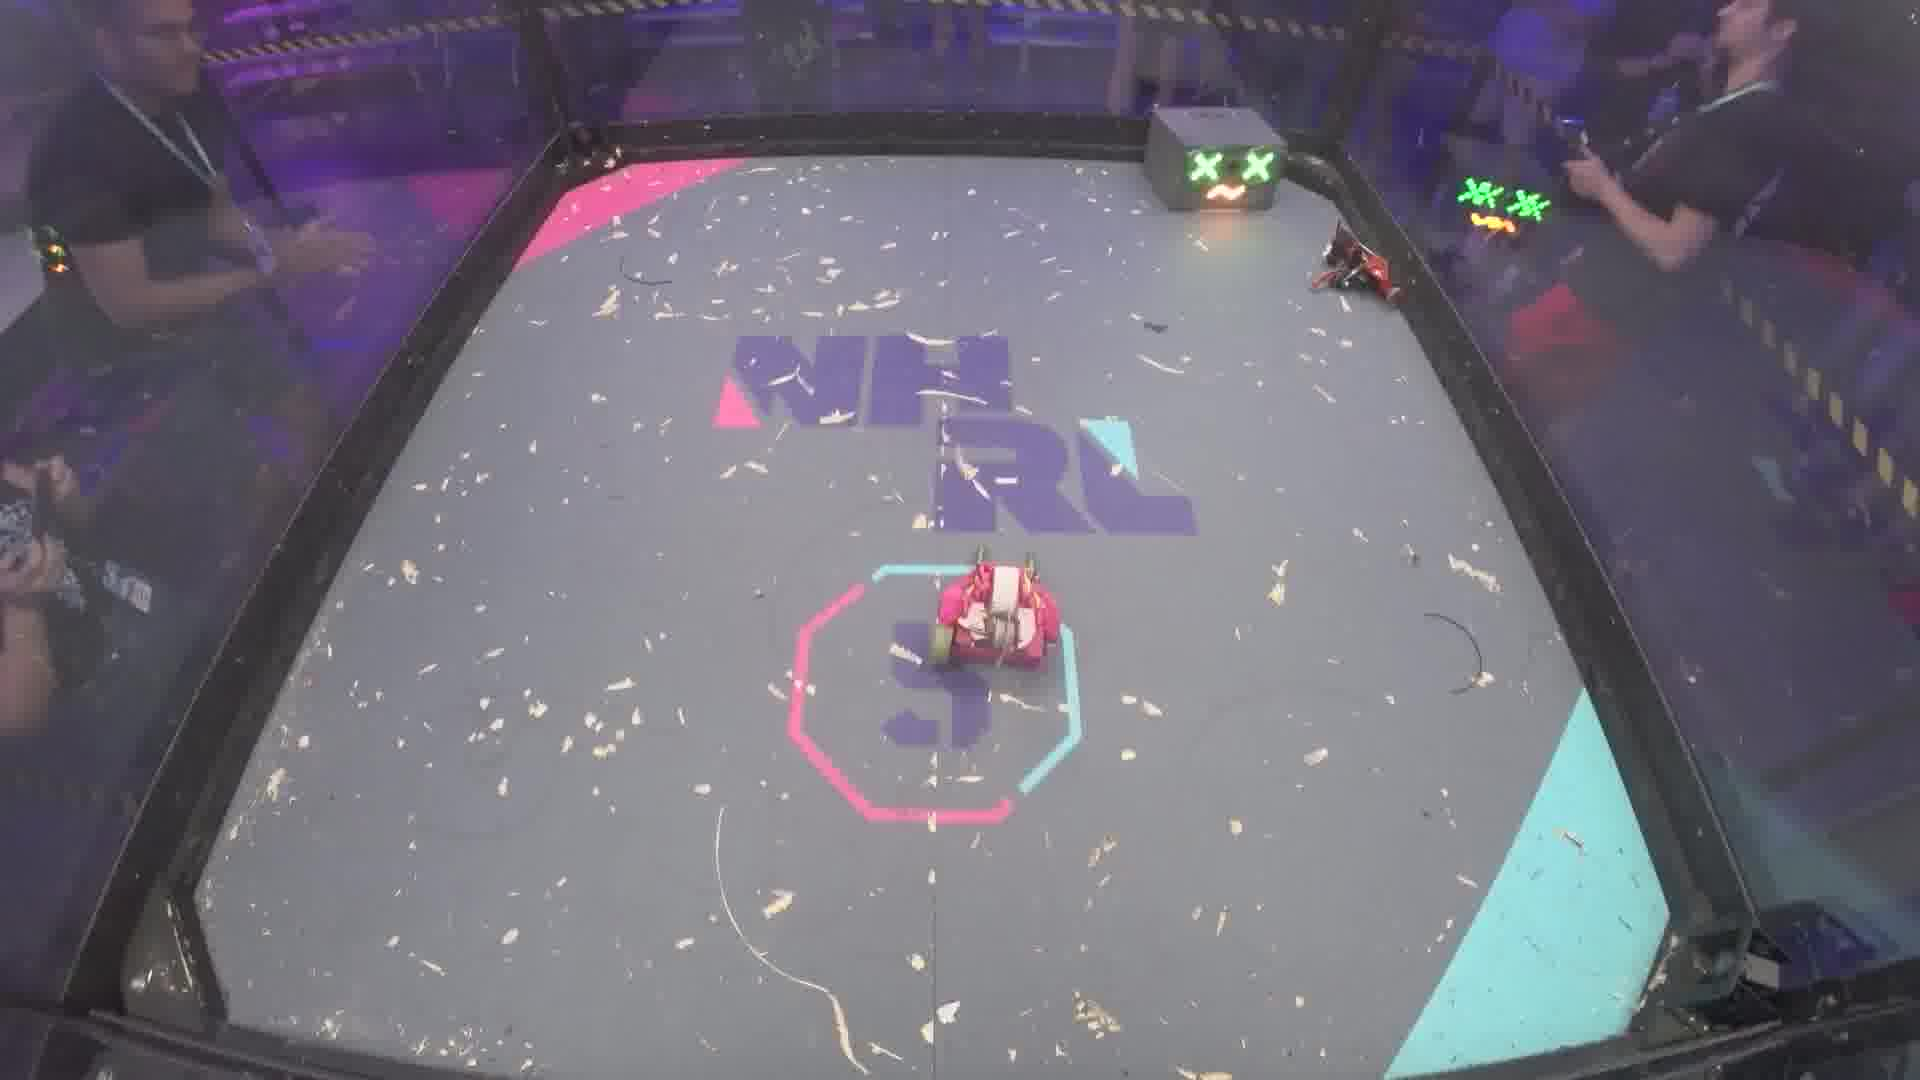belt: (1422, 607, 1485, 695), (618, 255, 673, 290)
combatbot: (924, 547, 1062, 673), (1307, 222, 1400, 311)
housebot: (1141, 104, 1286, 218)
